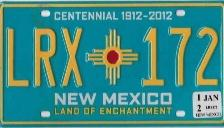1: (139, 25, 166, 88)
2: (195, 26, 220, 87)
7: (168, 26, 193, 86)
L: (4, 26, 31, 89)
R: (32, 25, 59, 88)
X: (59, 25, 86, 88)
